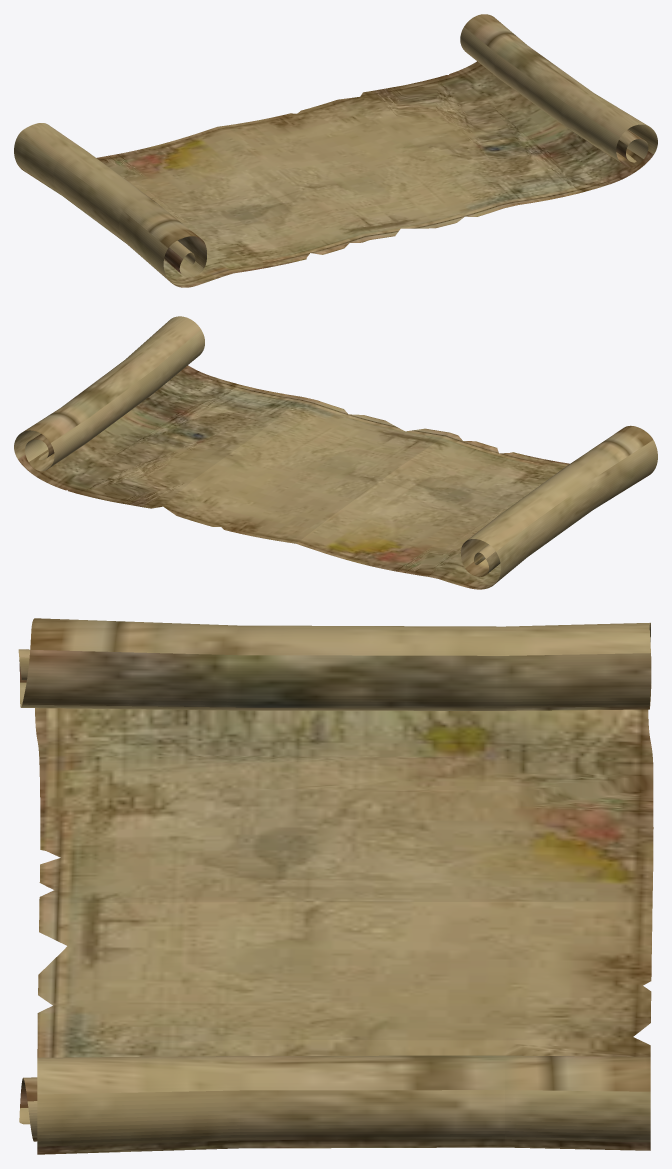
File: obj_old_map_3d_model.glb
The picture shows the model from 3 angles, top to bottom: view 1: azimuth 30°, elevation 25°; view 2: azimuth 150°, elevation 25°; view 3: azimuth 270°, elevation 25°; orthographic projection. The views are drawn at different scales.
Visible parts, largest first — view 1: BezierCurve_0; view 2: BezierCurve_0; view 3: BezierCurve_0.
Part boxes in pixels (box(x1,y1,x2,y2)): BezierCurve_0: box(14, 14, 657, 287); BezierCurve_0: box(14, 316, 657, 589); BezierCurve_0: box(18, 618, 653, 1154).
Bounding box in the file's own units: 0.55 × 0.0578 × 0.3059.
Materials: 1 (1 with a texture image).
